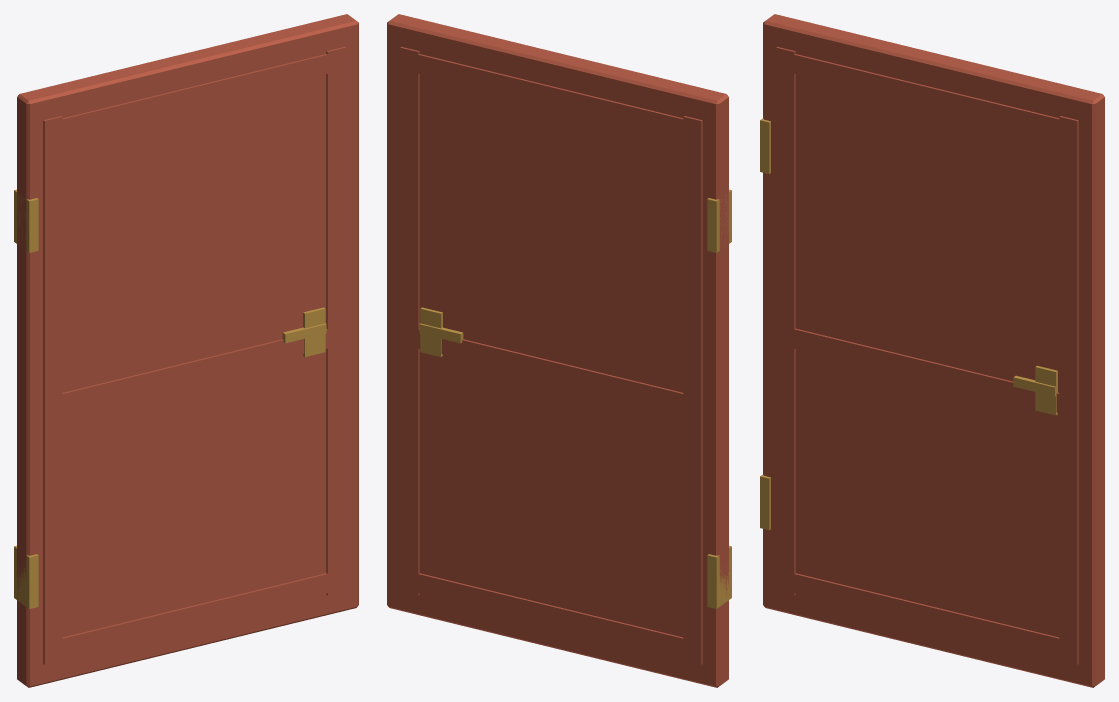
Rendered from door-leaf-lod1.glb.
3 renders of one model, left to right at view 1: azimuth 30°, elevation 25°; view 2: azimuth 150°, elevation 25°; view 3: azimuth 330°, elevation 25°, orthographic.
Visible parts, largest first — view 1: 15_hinged_door_leaf; view 2: 15_hinged_door_leaf; view 3: 15_hinged_door_leaf.
Boxes of the visible parts, bbox=[...] form: 15_hinged_door_leaf: bbox=[14, 14, 358, 687]; 15_hinged_door_leaf: bbox=[387, 14, 731, 687]; 15_hinged_door_leaf: bbox=[760, 14, 1104, 687].
Size of the model in its own units: 1.28 by 2.16 by 0.118.
